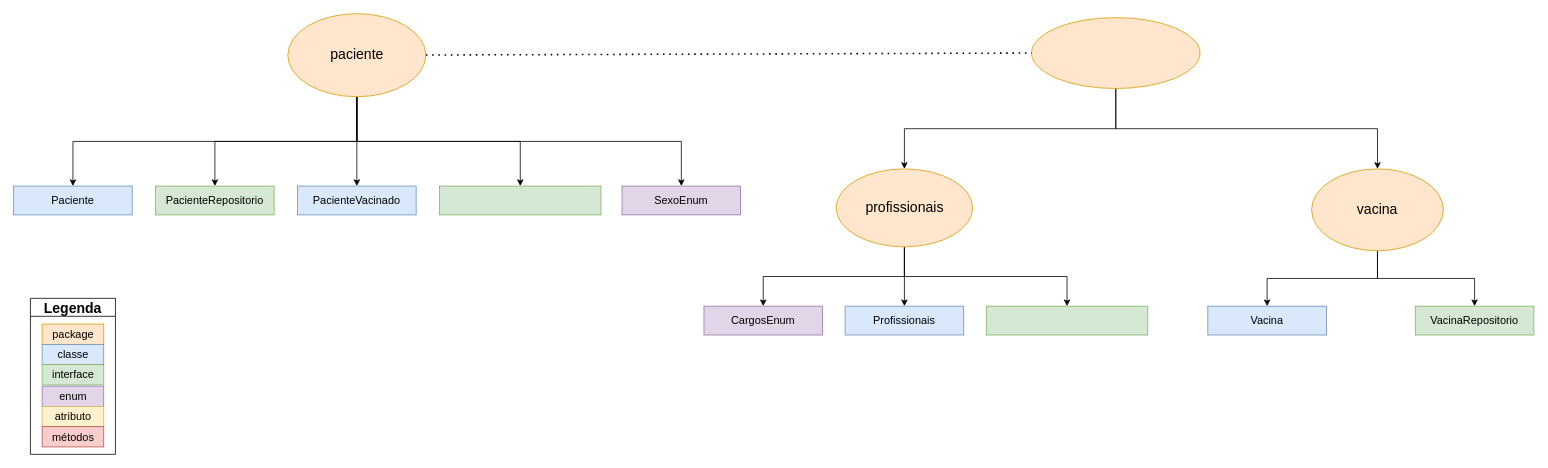
Image size: 1548x468. Some labels were removed from this diagram. Here are the shapes that lost their labels. From the top down, the centre of each, then its label:
At point (1115, 53): "Posto de saúde".
At point (520, 200): "PacienteVacinadoRepositorio".
At point (1067, 320): "ProfissionalRepositorio".
